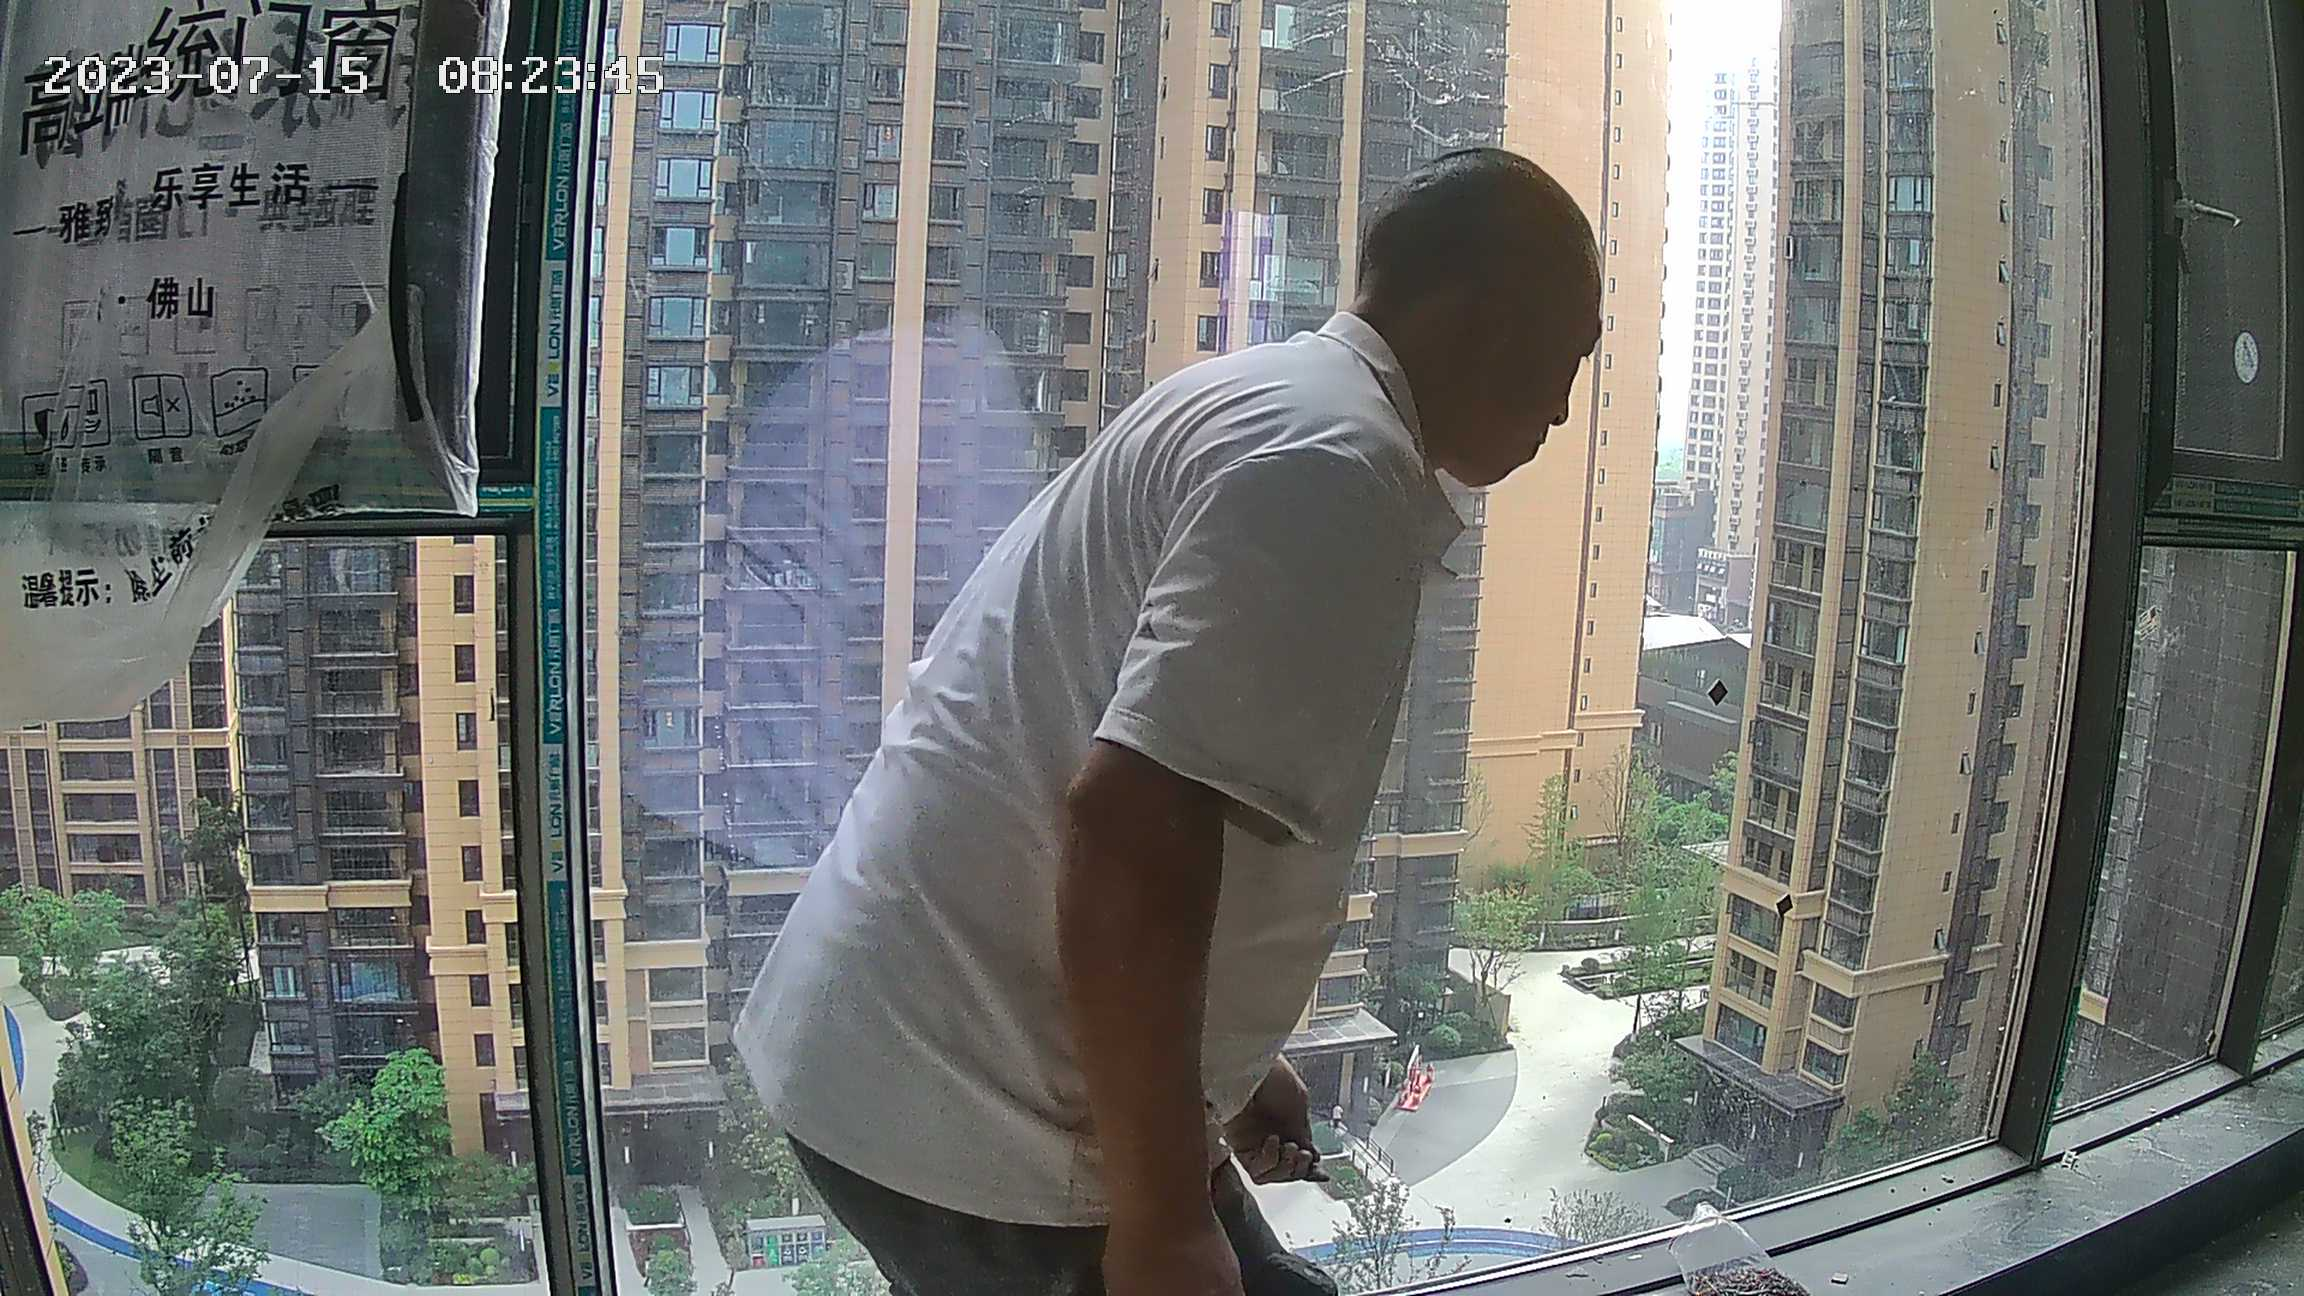people: (766, 163, 1601, 1296)
window: (3, 6, 2284, 1263)
